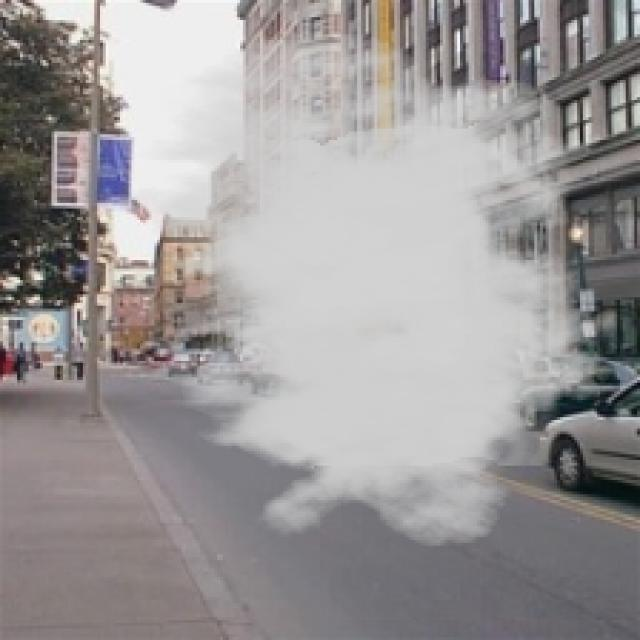smoke: (94, 31, 629, 548)
